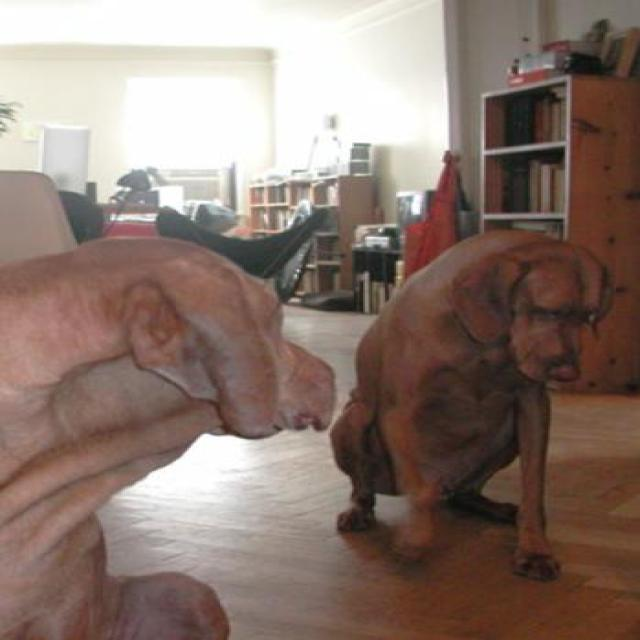vizsla: (0, 219, 358, 637), (332, 228, 618, 586)
